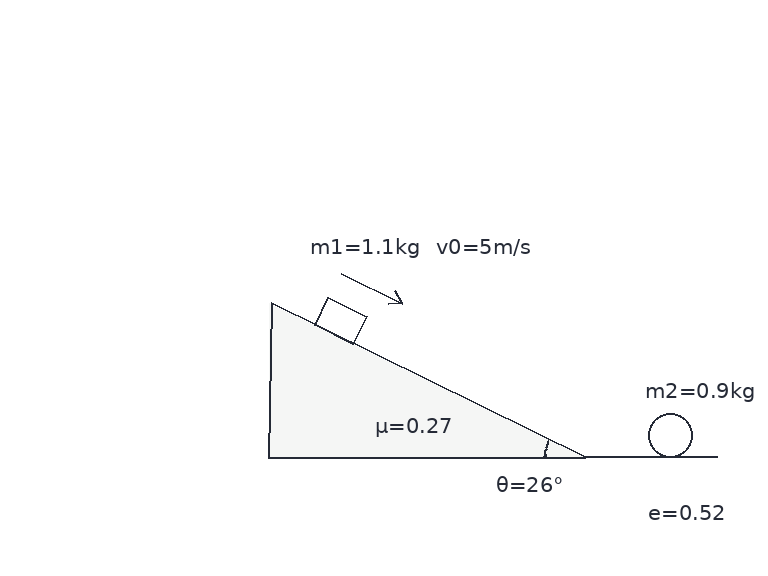ball: (646, 411, 694, 459)
block: (313, 296, 367, 345)
ramp: (268, 301, 587, 459)
